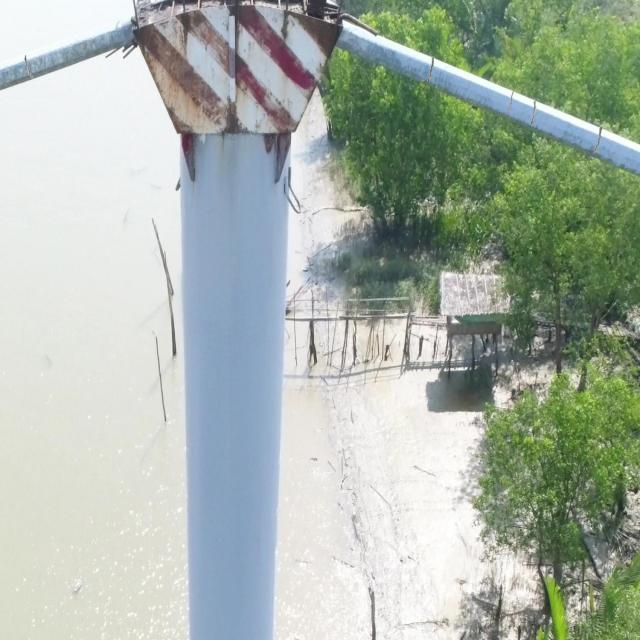crack: (593, 126, 603, 154), (24, 55, 34, 79), (506, 90, 514, 116), (529, 100, 537, 126), (427, 56, 434, 85)
